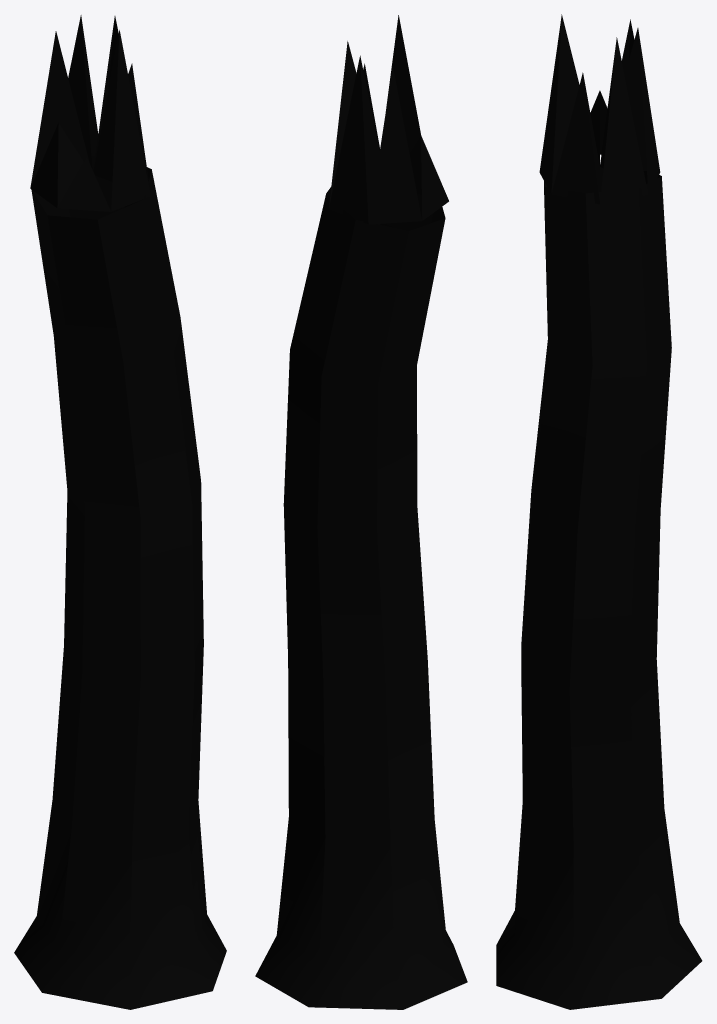
File: SM_snag.fbx
3 views of the same model, side by side, from view 1: azimuth 30°, elevation 25°; view 2: azimuth 150°, elevation 25°; view 3: azimuth 270°, elevation 25° (orthographic).
Parts seen in each view (by area): view 1: snag; view 2: snag; view 3: snag.
Part boxes in pixels (box(x1,y1,x2,y2)): snag: box(14, 15, 226, 1009); snag: box(255, 15, 467, 1009); snag: box(496, 14, 702, 1009).
Bounding box in the file's own units: 0.8188 × 4.03 × 0.7982.
